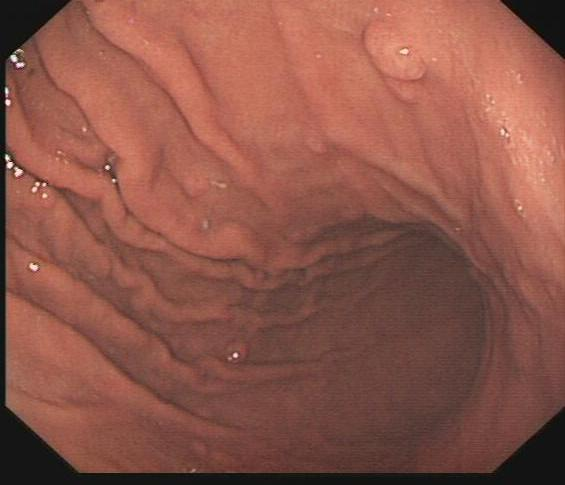Polyp: (361, 19, 433, 93)
